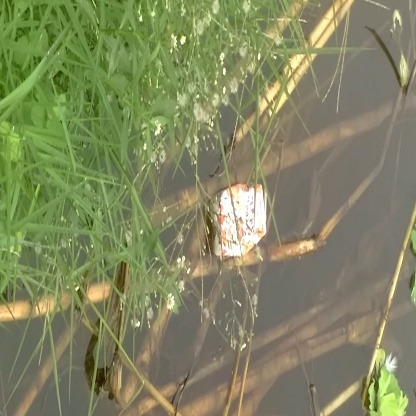milk-box: (207, 182, 279, 259)
